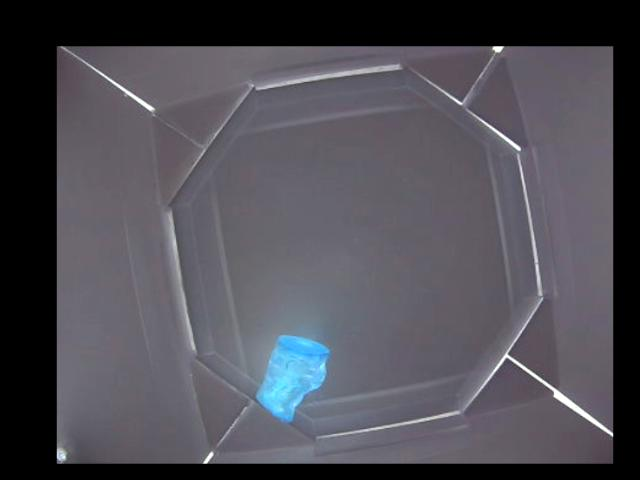Carrot: (257, 338, 327, 418)
